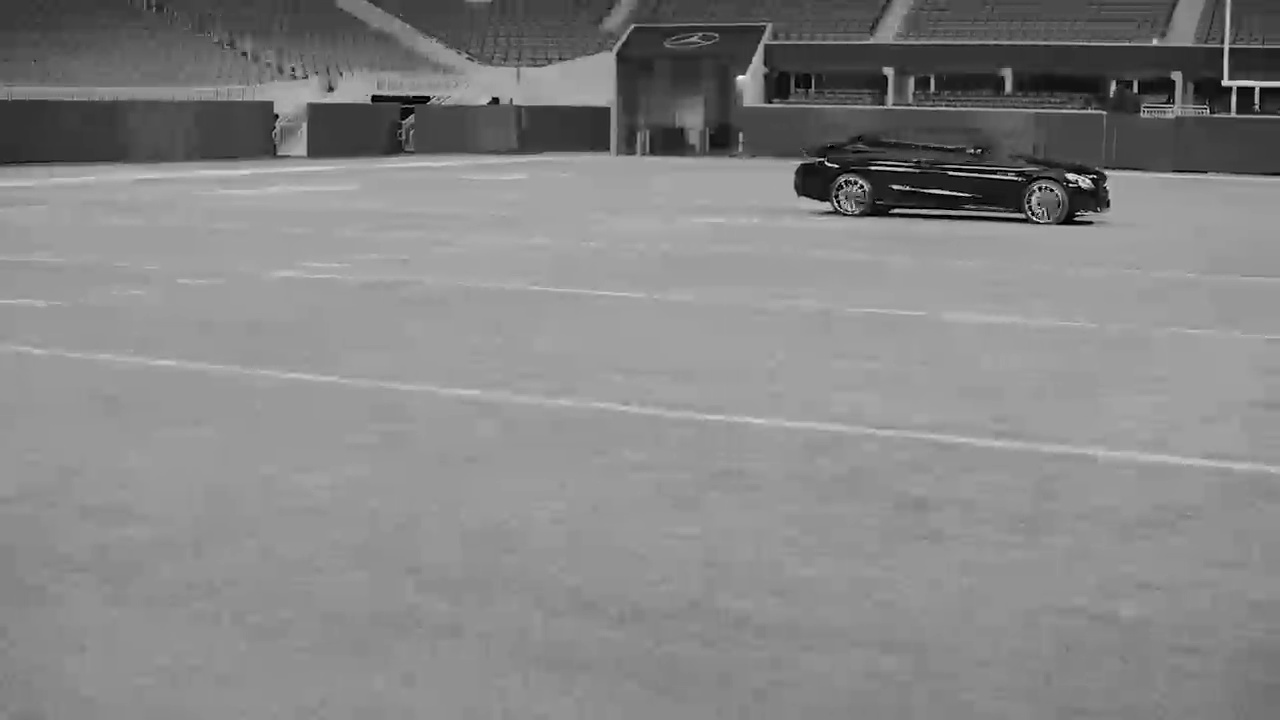car: (793, 121, 1118, 231)
